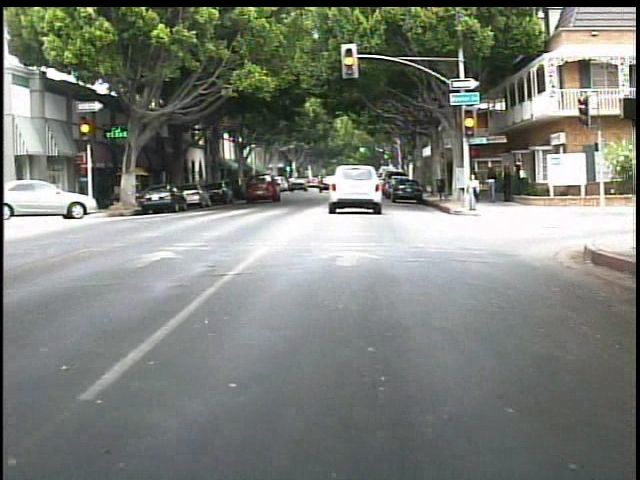person: (461, 170, 483, 213), (485, 164, 501, 203), (511, 156, 527, 194), (502, 165, 515, 205)
